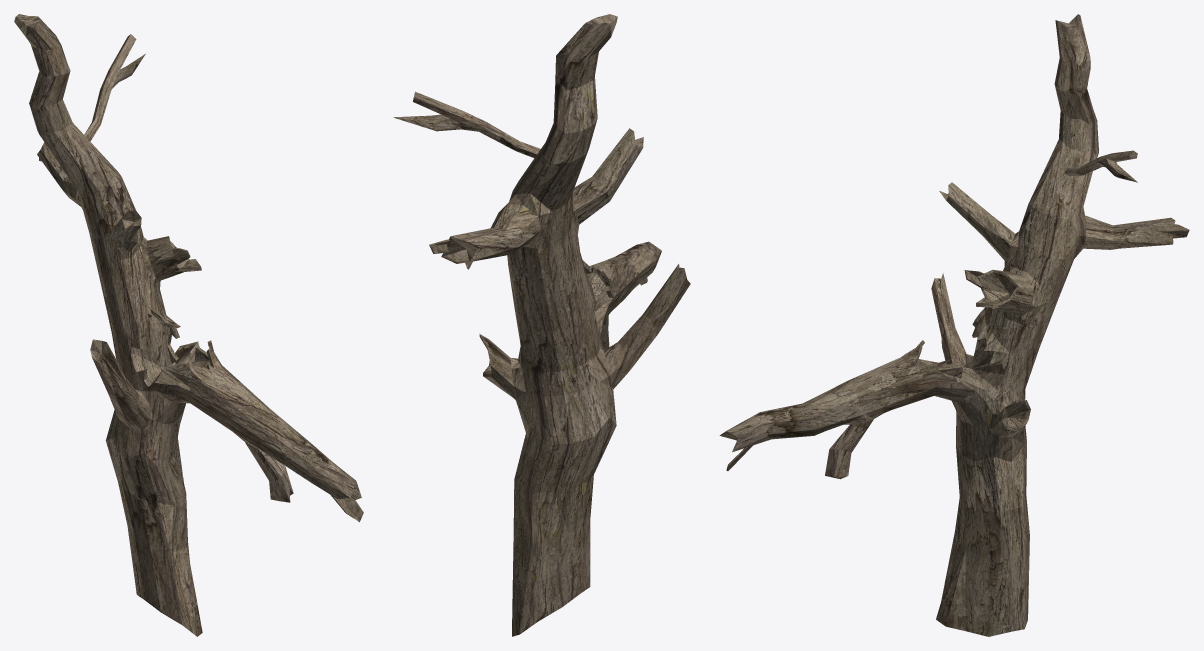
Rendered from 1_TREE_06_3-transformed.glb.
The picture shows the model from 3 angles, left to right: view 1: azimuth 30°, elevation 25°; view 2: azimuth 150°, elevation 25°; view 3: azimuth 270°, elevation 25°; orthographic projection. The views are drawn at different scales.
Visible parts, largest first — view 1: default; view 2: default; view 3: default.
Part boxes in pixels (x1,y1,x2,y2): default: [14, 14, 363, 636]; default: [393, 14, 690, 636]; default: [719, 14, 1189, 636].
Bounding box in the file's own units: 1.5 × 5.23 × 3.94.
Materials: 1 (1 with a texture image).
